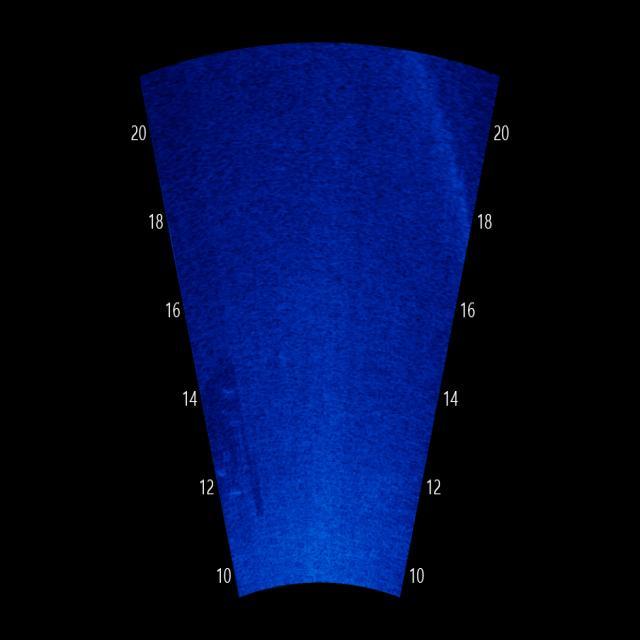triangle: (198, 346, 276, 514)
